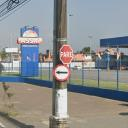Pare: (60, 44, 73, 64)
